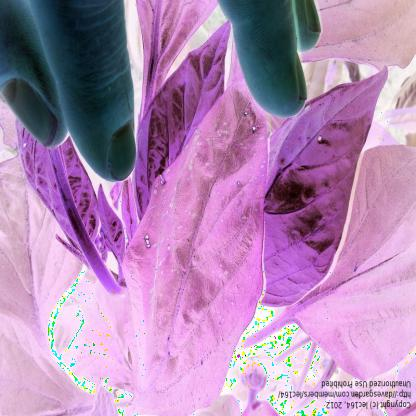bell pepper leaf: (150, 6, 293, 331), (29, 104, 173, 347), (1, 40, 131, 272), (184, 192, 283, 396), (317, 166, 402, 298)
